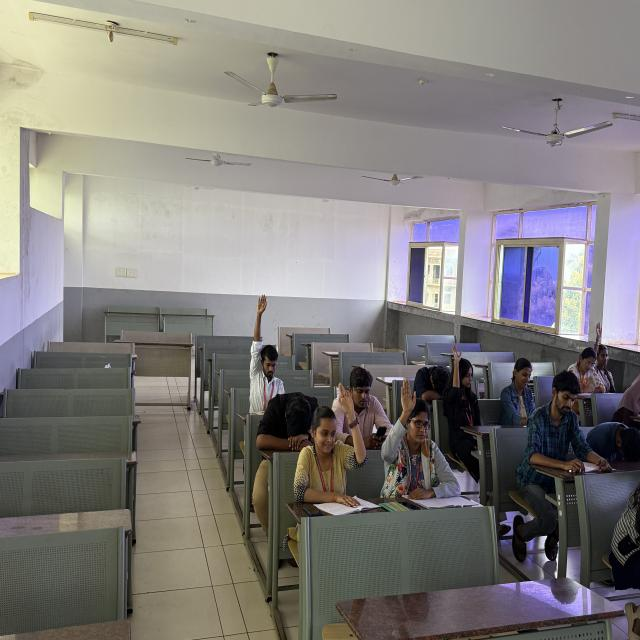Hand Rising: (382, 367, 458, 519), (309, 378, 366, 502), (246, 286, 290, 409), (444, 336, 486, 441), (590, 316, 620, 390)
Reading: (526, 369, 610, 499), (566, 344, 612, 406)
Sleeping: (248, 388, 321, 480), (408, 359, 460, 416)
Using Phone: (330, 363, 401, 452)
